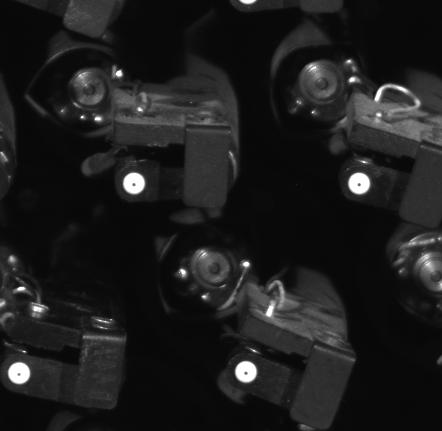fiber: (230, 356, 262, 389), (119, 168, 152, 199), (5, 358, 38, 389), (346, 169, 375, 199)
